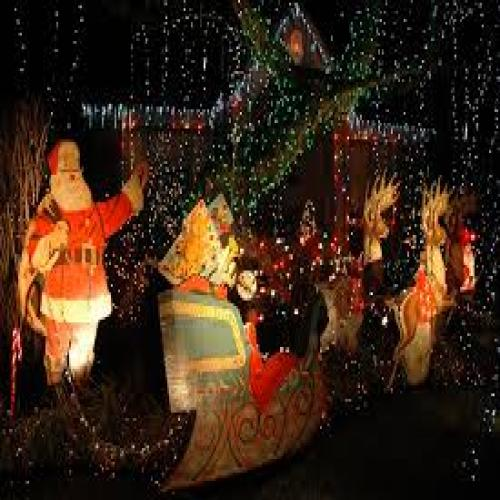Santa: (17, 141, 147, 382)
